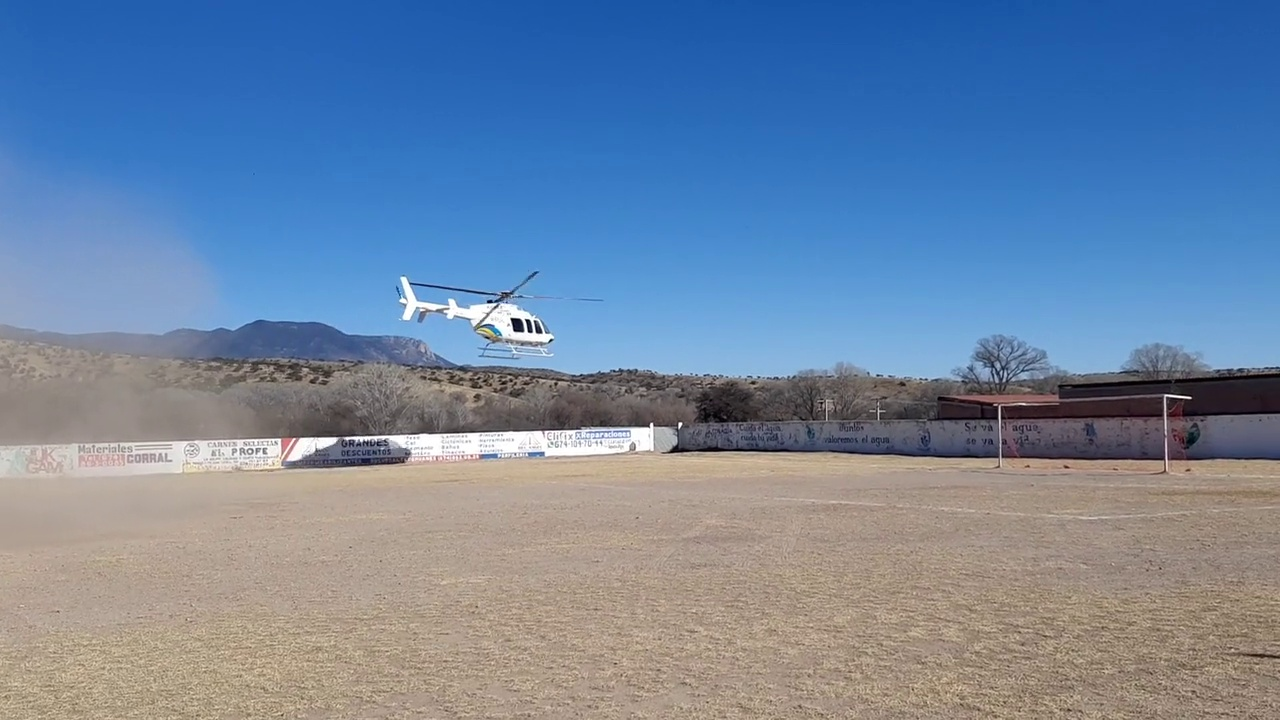heli: (394, 269, 604, 360)
